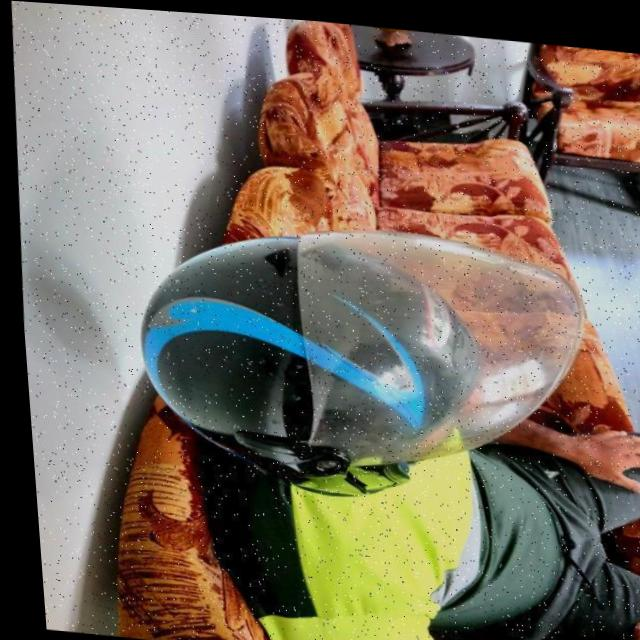helmet: (121, 206, 598, 508)
